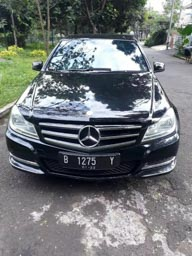plat: (57, 154, 121, 166)
